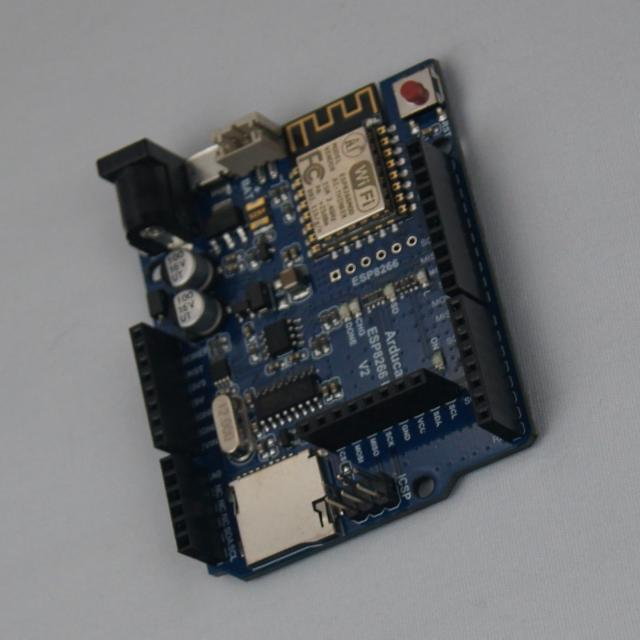Arduino Uno Camera Shield: (98, 60, 535, 580)
